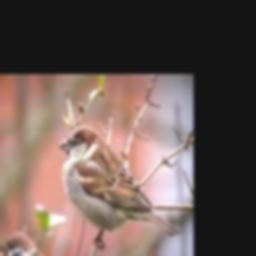Sparrow: (59, 126, 180, 247)
